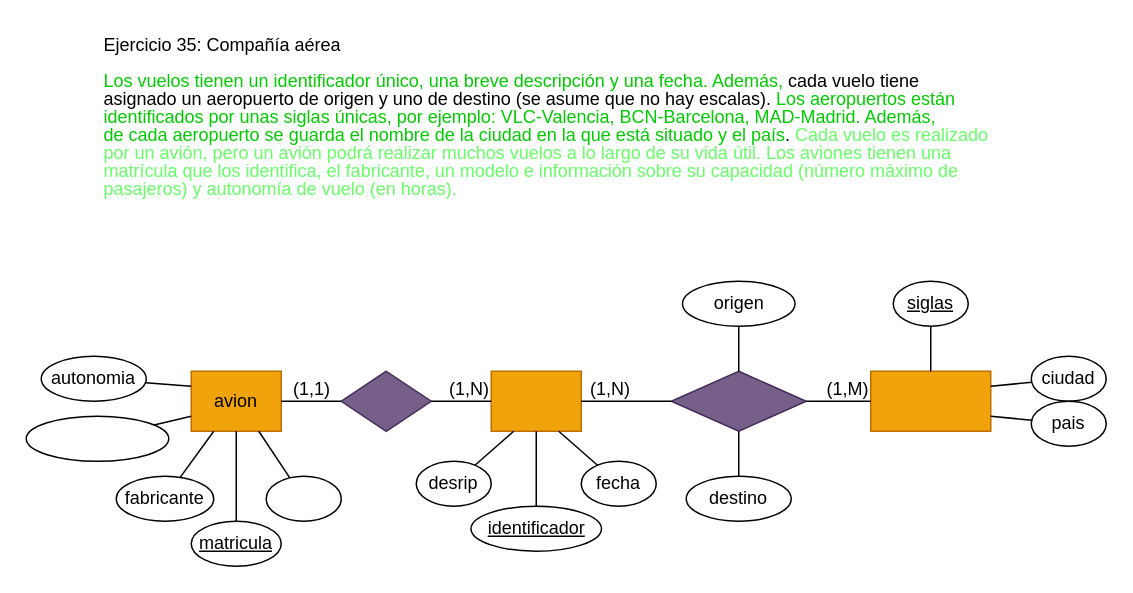
Some shapes in this 1133 by 593 pixel diagram are drawn without their labels. The shapes that lost their labels are listed below. From the top down, each one's centre as x and y in pixels, then its label:
(x=385, y=400): realiza
(x=535, y=400): vuelo
(x=738, y=400): utiliza
(x=930, y=400): aeropuerto
(x=97, y=438): maxPasajeros
(x=303, y=498): modelo
